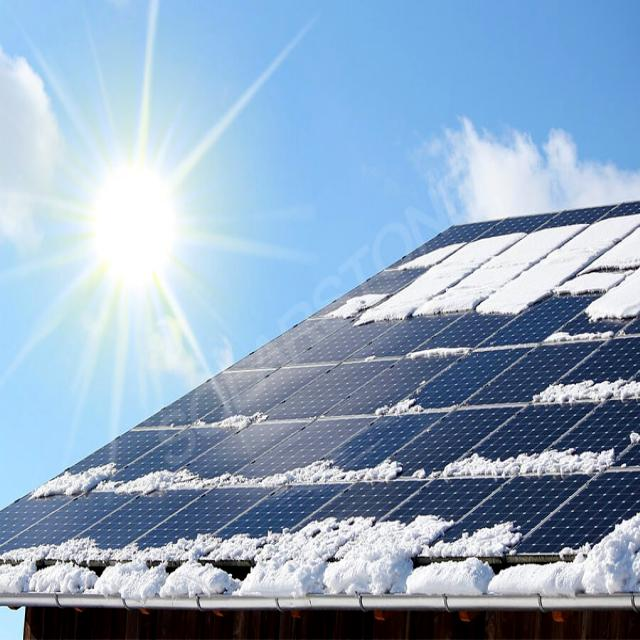panel: (498, 507, 640, 599), (404, 245, 534, 334), (534, 224, 640, 328), (249, 520, 375, 606), (110, 525, 243, 603), (384, 504, 491, 598), (436, 435, 617, 490), (46, 465, 424, 490), (3, 532, 102, 602), (361, 354, 424, 444), (538, 303, 640, 357), (178, 389, 270, 448), (525, 371, 640, 416), (390, 341, 480, 384), (339, 280, 389, 332), (625, 426, 640, 486)
